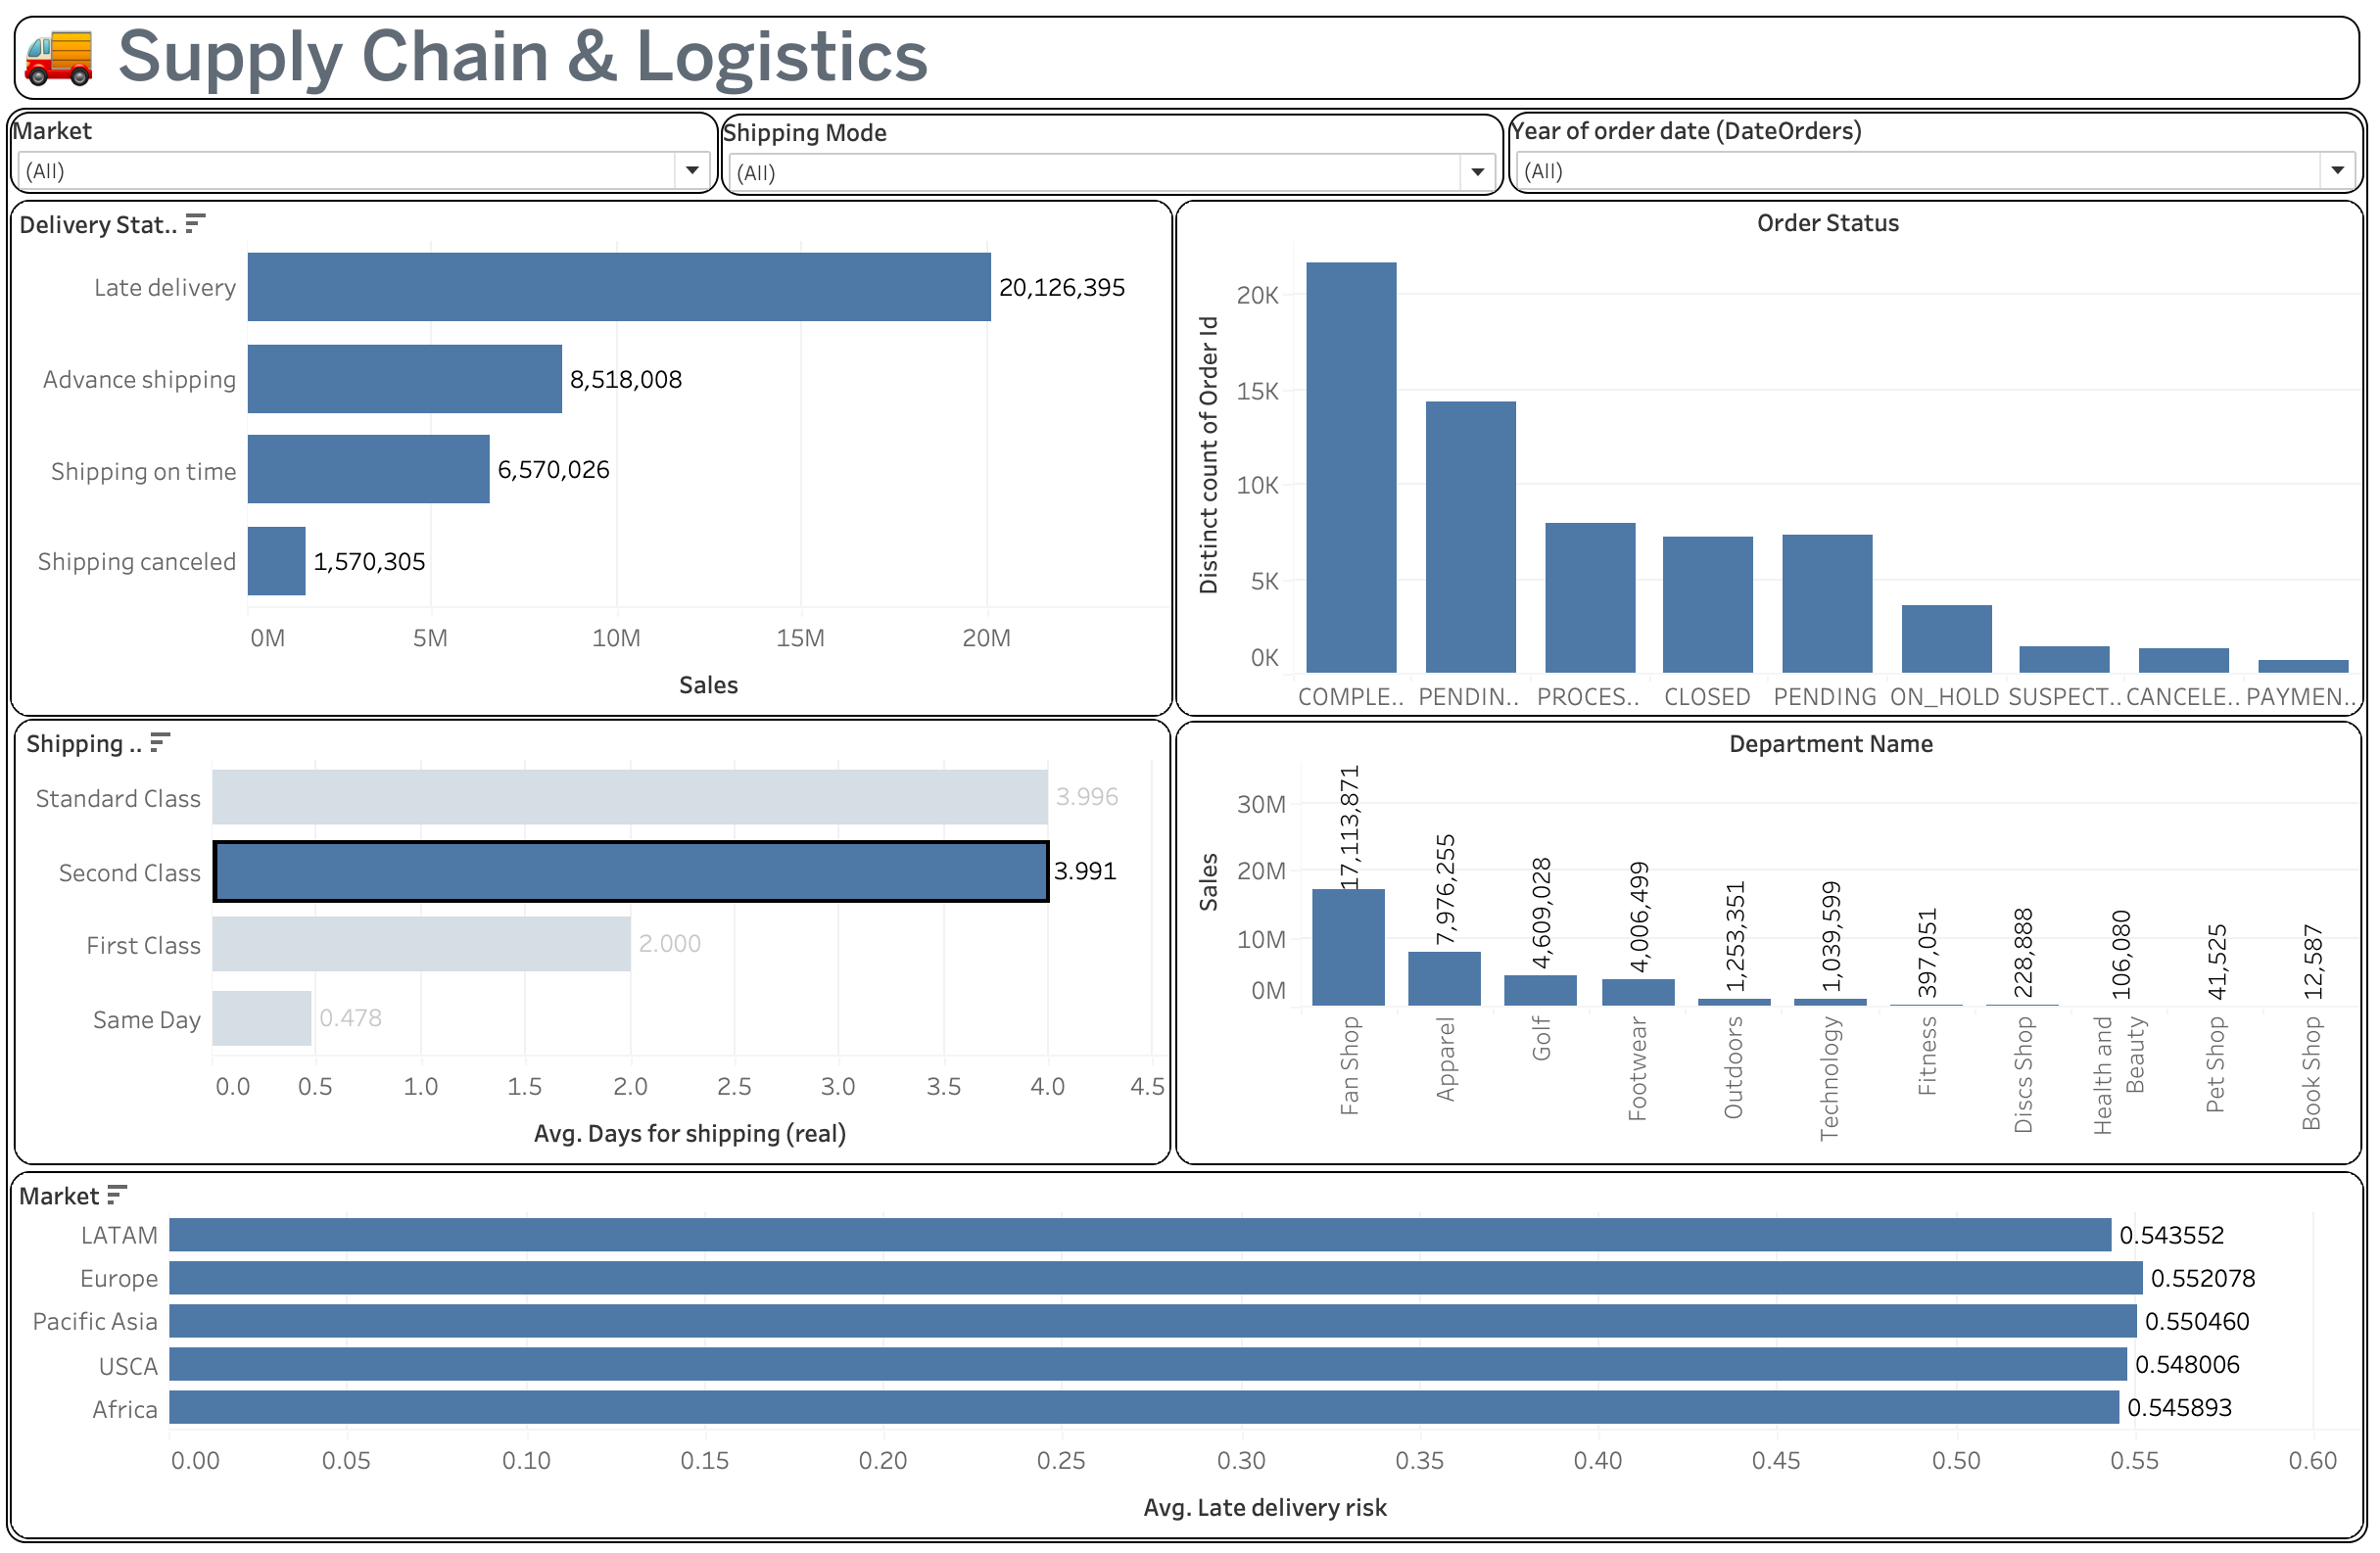

The page's visual inventory and layout, read from the dashboard file:
{"tool":"tableau","page":{"name":"🚚 Supply Chain & Logistics","canvas":[1222,800],"ordinal":2},"visuals":[{"type":"title","box":[8,8,1206,51]},{"type":"filter","title":"📦 Sales by Delivery Status","param":"[federated.0ue46na07isqf50zyf6wb1y4oivp].[none:Market:nk]","box":[10,61,362,42]},{"type":"filter","title":"📦 Sales by Delivery Status","param":"[federated.0ue46na07isqf50zyf6wb1y4oivp].[yr:order date (DateOrders):ok]","box":[775,61,437,42]},{"type":"filter","title":"📦 Sales by Delivery Status","param":"[federated.0ue46na07isqf50zyf6wb1y4oivp].[none:Shipping Mode:nk]","box":[373,62,400,42]},{"type":"worksheet","title":"📦 Sales by Delivery Status","mark":"Automatic","rows":["Delivery Status"],"cols":["Sales"],"box":[10,106,594,264]},{"type":"worksheet","title":"📋 Sales by Order Status","mark":"Automatic","rows":["Order Id"],"cols":["Order Status"],"box":[605,106,607,264]},{"type":"worksheet","title":"🚛 Avg Shipping Days by Shipping Mode","mark":"Automatic","rows":["Shipping Mode"],"cols":["Days for shipping (real)"],"box":[12,371,591,228]},{"type":"worksheet","title":"🏢 Sales by Department","mark":"Automatic","rows":["Sales"],"cols":["Department Name"],"box":[605,372,606,227]},{"type":"worksheet","title":"🌎 Late Delivery Risk by Market","mark":"Automatic","rows":["Market"],"cols":["Late_delivery_risk"],"box":[10,602,1202,188]}]}

Visuals, with their boxes in screenshot pixels (x1, y1, x2, y2), scaled from the page's 1222x800 canvas onto the 2380x1553 screenshot:
title: Rect(16, 16, 2364, 115)
"📦 Sales by Delivery Status" filter: Rect(20, 118, 725, 200)
"📦 Sales by Delivery Status" filter: Rect(1509, 118, 2360, 200)
"📦 Sales by Delivery Status" filter: Rect(727, 120, 1505, 202)
"📦 Sales by Delivery Status" worksheet: Rect(20, 206, 1176, 719)
"📋 Sales by Order Status" worksheet: Rect(1178, 206, 2360, 719)
"🚛 Avg Shipping Days by Shipping Mode" worksheet: Rect(24, 721, 1174, 1163)
"🏢 Sales by Department" worksheet: Rect(1178, 722, 2358, 1163)
"🌎 Late Delivery Risk by Market" worksheet: Rect(20, 1168, 2360, 1533)
